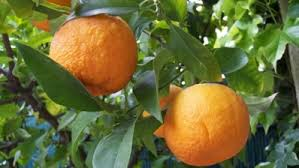orange: (161, 80, 253, 167), (41, 17, 143, 95)
